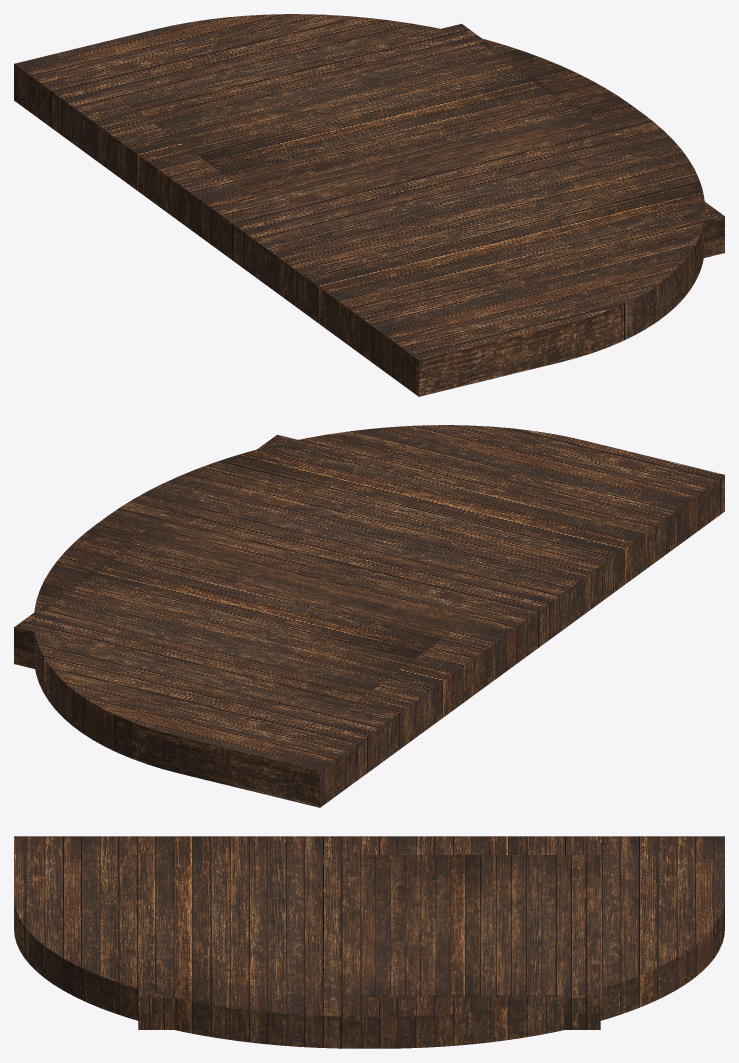
File: Teatro_Escenario.fbx
3 views of the same model, one above another, from view 1: azimuth 30°, elevation 25°; view 2: azimuth 150°, elevation 25°; view 3: azimuth 270°, elevation 25° (orthographic). The views are drawn at different scales.
Visible parts, largest first — view 1: Cube.001, Cube; view 2: Cube.001, Cube; view 3: Cube.001, Cube.
Part boxes in pixels (x1,y1,x2,y2): Cube.001: [14, 14, 704, 396]; Cube: [129, 23, 724, 257]; Cube.001: [34, 425, 724, 807]; Cube: [14, 434, 482, 708]; Cube.001: [14, 836, 724, 1048]; Cube: [138, 855, 600, 1029].
Bounding box in the file's own units: 1200 × 100 × 2000.
1 material, 1 textured.
